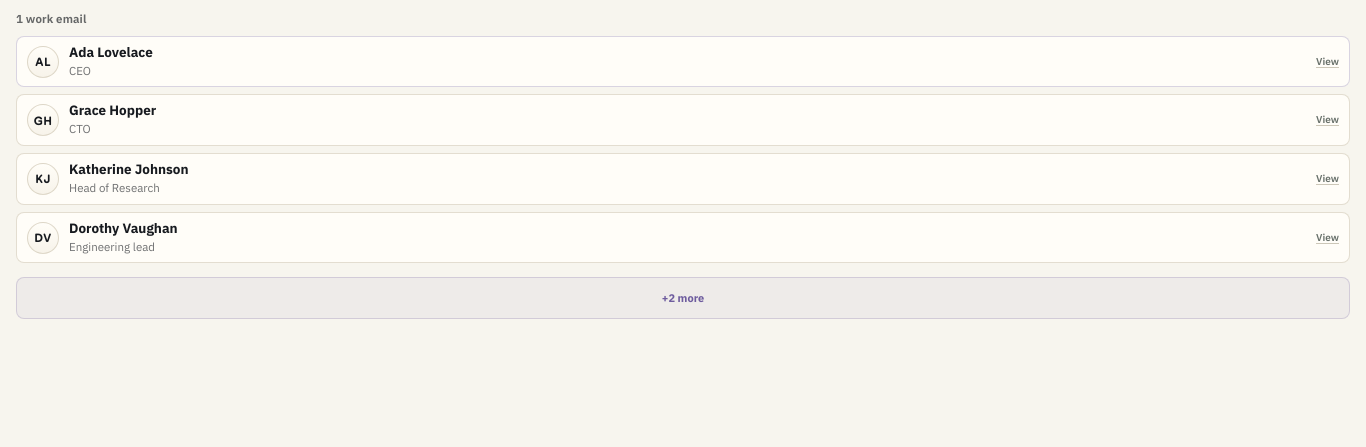
PeopleLine overflow › reveals the remaining people when the overflow control is used
This screenshot has width=1366, height=447.
Expected: the number of buttons with class "cs-people-person" is 4, [16,36,1350,87]; [16,94,1350,146]; [16,153,1350,205]; [16,212,1350,263]
What coordinates should you click on to do the following:
click the button with class "cs-people-more"
I would click on:
 (683, 298)
Its box is [16,277,1350,319].
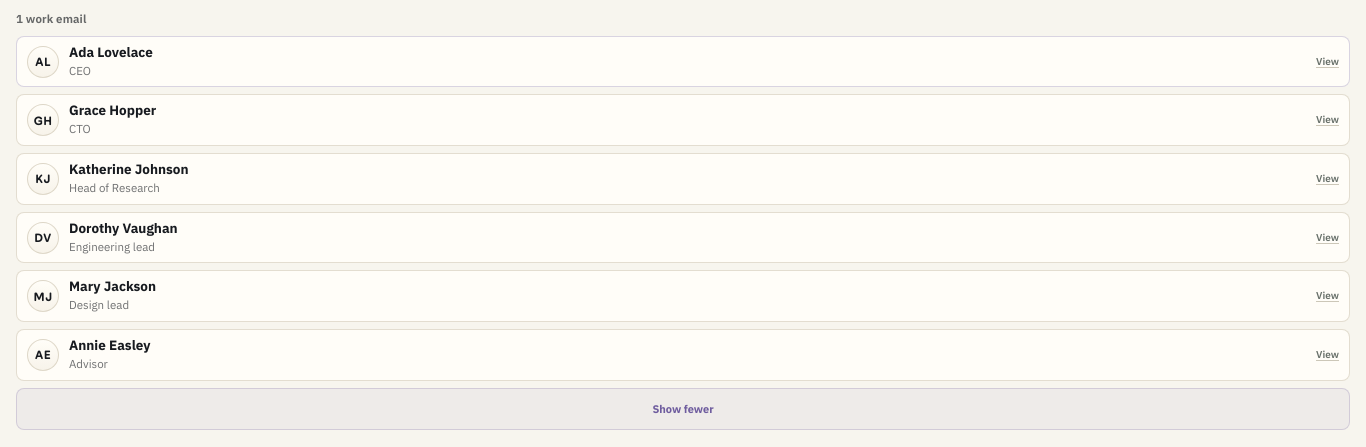
Expected: the number of buttons with class "cs-people-person" is 6, [16,36,1350,87]; [16,94,1350,146]; [16,153,1350,205]; [16,212,1350,263]; [16,270,1350,322]; [16,329,1350,381]
Expected: the text "Annie Easley" is shown, [69,336,150,354]
Expected: the button with class "cs-people-more" reads "Show fewer", [16,388,1350,430]
